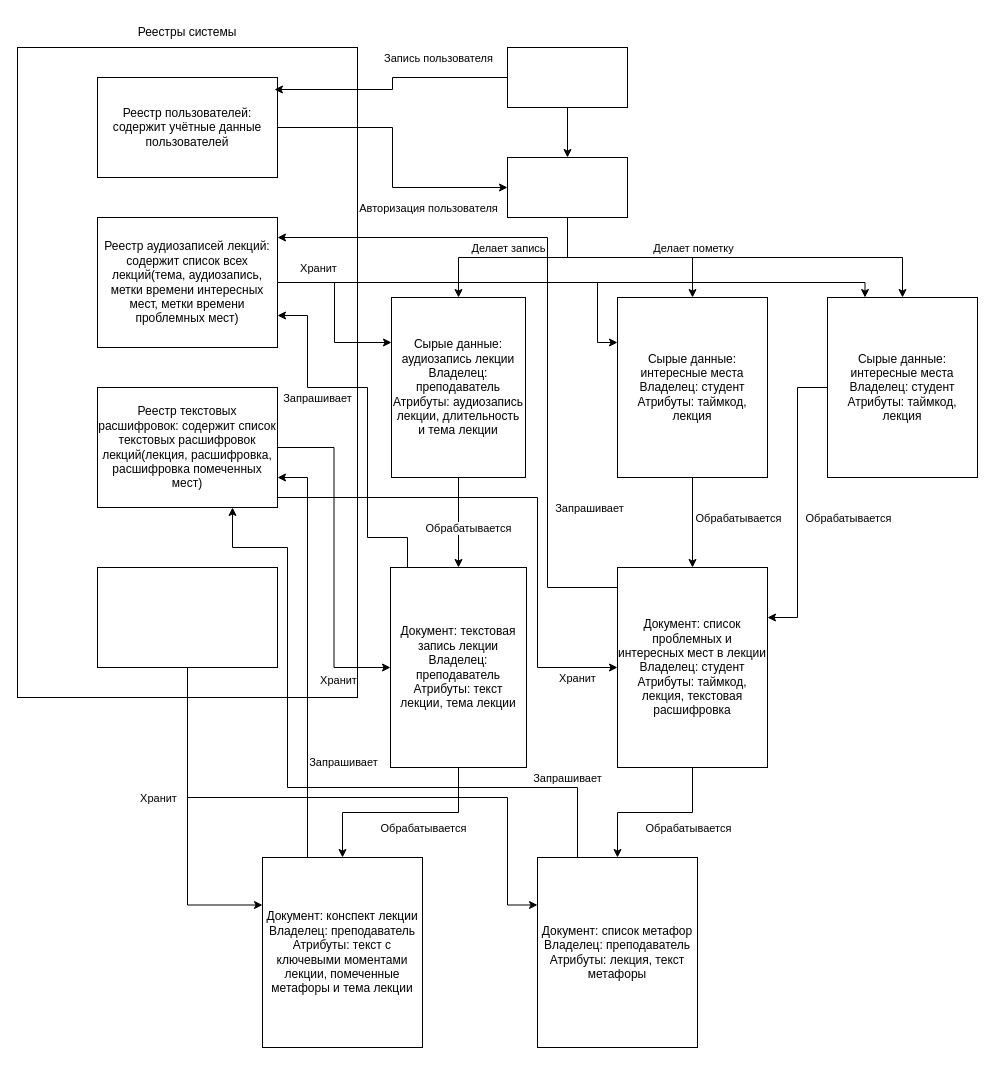
Image size: 995x1065. Some labels were removed from this diagram. Each missing label, with the centre of its shape:
"Авторизация" goes at point (567, 187).
"Регистрация" goes at point (567, 77).
"Реестр конспектов: содержит конспекты лекций, тему лекций и помеченные метафоры" goes at point (187, 617).
